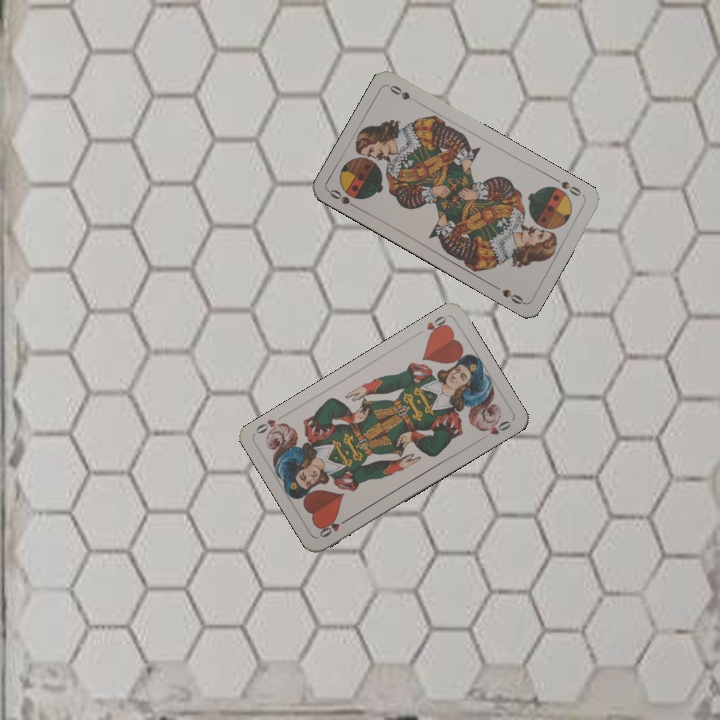HO: (315, 514, 352, 540), (422, 312, 451, 340)
SO: (325, 185, 362, 212), (550, 174, 587, 200)
